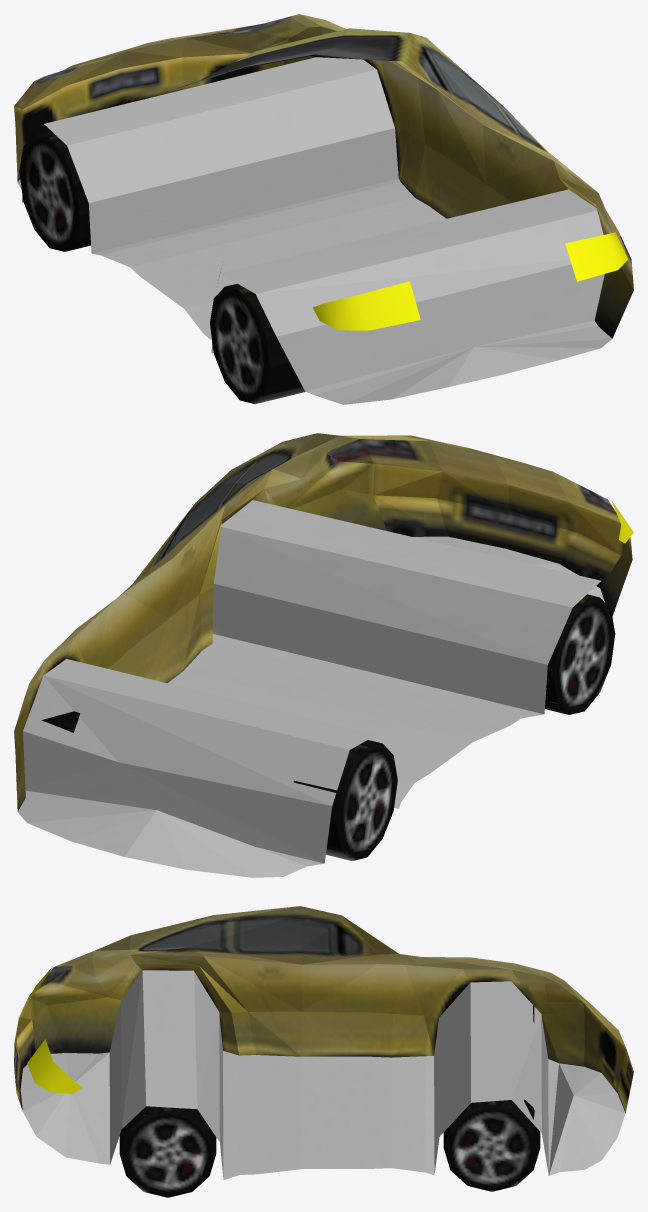
The picture shows the model from 3 angles, top to bottom: view 1: azimuth 30°, elevation 25°; view 2: azimuth 150°, elevation 25°; view 3: azimuth 270°, elevation 25°; orthographic projection. The views are drawn at different scales.
Parts seen in each view (by area): view 1: taxi04, tyre1, tyre3, light1; view 2: taxi04, tyre3, tyre1; view 3: taxi04, tyre2, tyre4, light1.
Boxes of the visible parts, left/top/right/bottom form: taxi04: left=14, top=14, right=633, bottom=404; tyre1: left=210, top=283, right=305, bottom=403; tyre3: left=19, top=130, right=90, bottom=251; light1: left=313, top=232, right=628, bottom=330; taxi04: left=14, top=433, right=632, bottom=877; tyre3: left=293, top=740, right=397, bottom=860; tyre1: left=545, top=594, right=615, bottom=714; taxi04: left=14, top=906, right=633, bottom=1180; tyre2: left=119, top=1106, right=216, bottom=1197; tyre4: left=443, top=1099, right=540, bottom=1191; light1: left=27, top=966, right=82, bottom=1093.
Bounding box in the file's own units: 0.7015 × 0.4744 × 1.35.
Materials: 2 (2 with a texture image).
